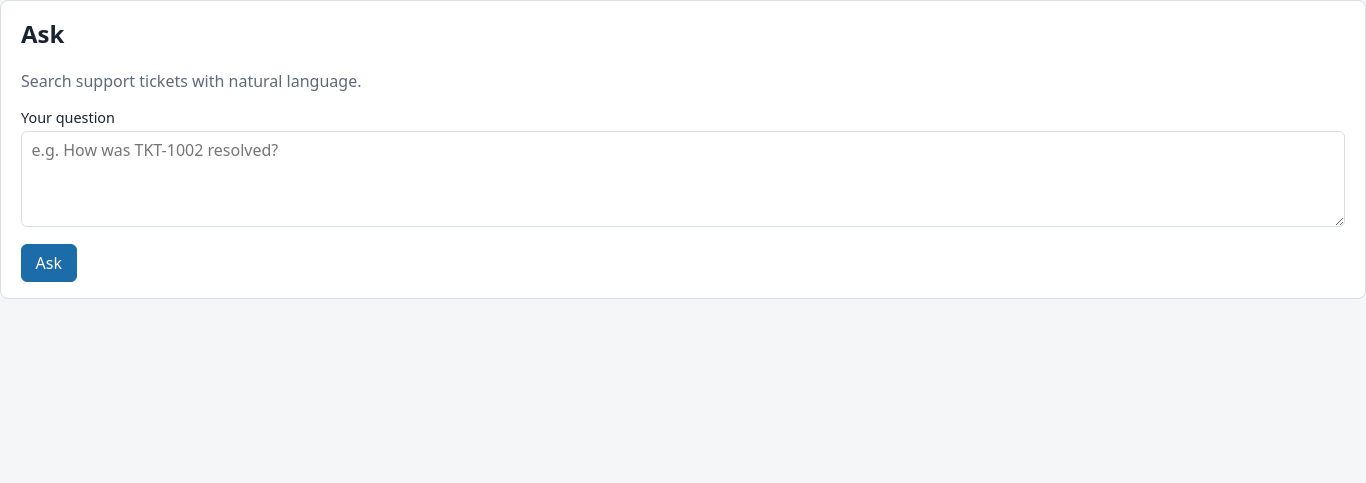
Test case: RagAssistant display states › renders NO_MATCH state without answer body
Step 1. Type "mars" into the text box labelled "Your question" → (683, 179), box [21,131,1345,227]
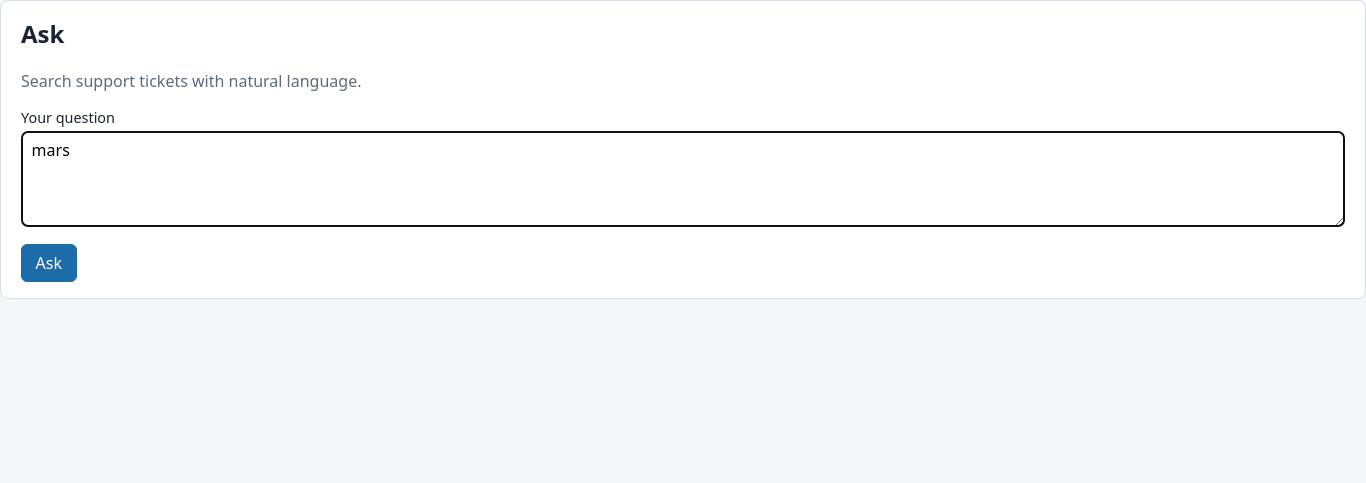
Step 2. Click the button "Ask" → (49, 263), box [21,244,77,282]
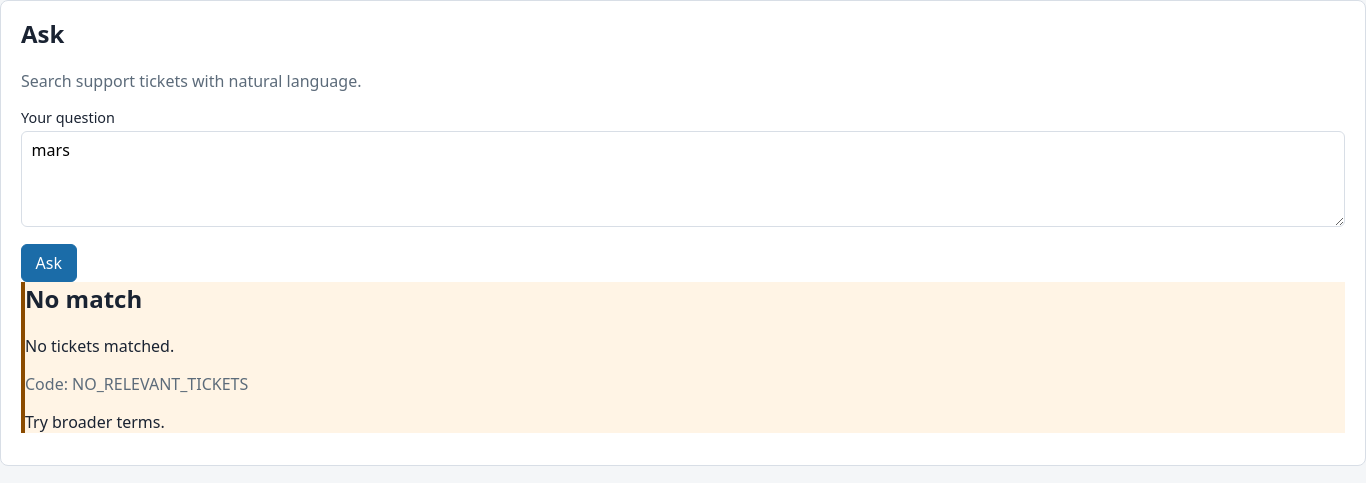
Expected: the heading "No match" is shown, [25,282,142,315]
Expected: the text "Try broader terms." is shown, [25,411,165,433]
